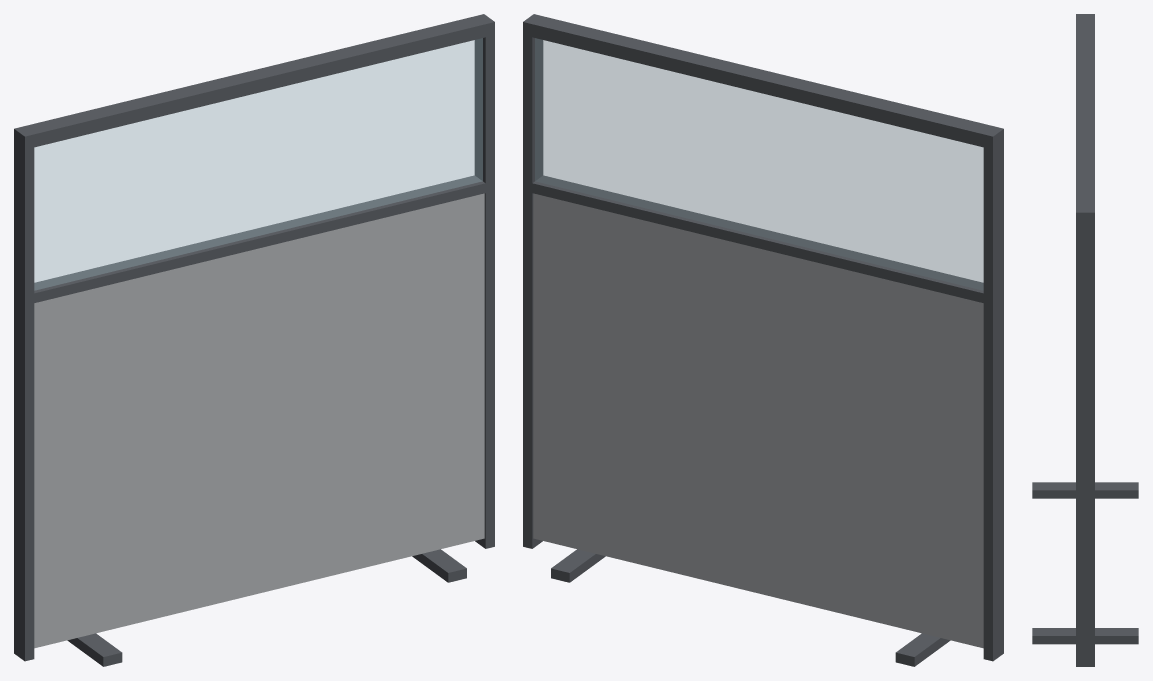
Rendered from GO_Cubicle_Panel_Glass_01.glb.
The picture shows the model from 3 angles, left to right: view 1: azimuth 30°, elevation 25°; view 2: azimuth 150°, elevation 25°; view 3: azimuth 270°, elevation 25°; orthographic projection. The views are drawn at different scales.
Visible parts, largest first — view 1: GO_Cubicle_Panel_Glass_01; view 2: GO_Cubicle_Panel_Glass_01; view 3: GO_Cubicle_Panel_Glass_01.
Boxes of the visible parts, left/top/right/bottom form: GO_Cubicle_Panel_Glass_01: left=14, top=14, right=494, bottom=666; GO_Cubicle_Panel_Glass_01: left=523, top=14, right=1003, bottom=666; GO_Cubicle_Panel_Glass_01: left=1032, top=14, right=1138, bottom=666.
Size of the model in its own units: 1.5 by 1.6 by 0.34.
2 materials, 2 textured.
